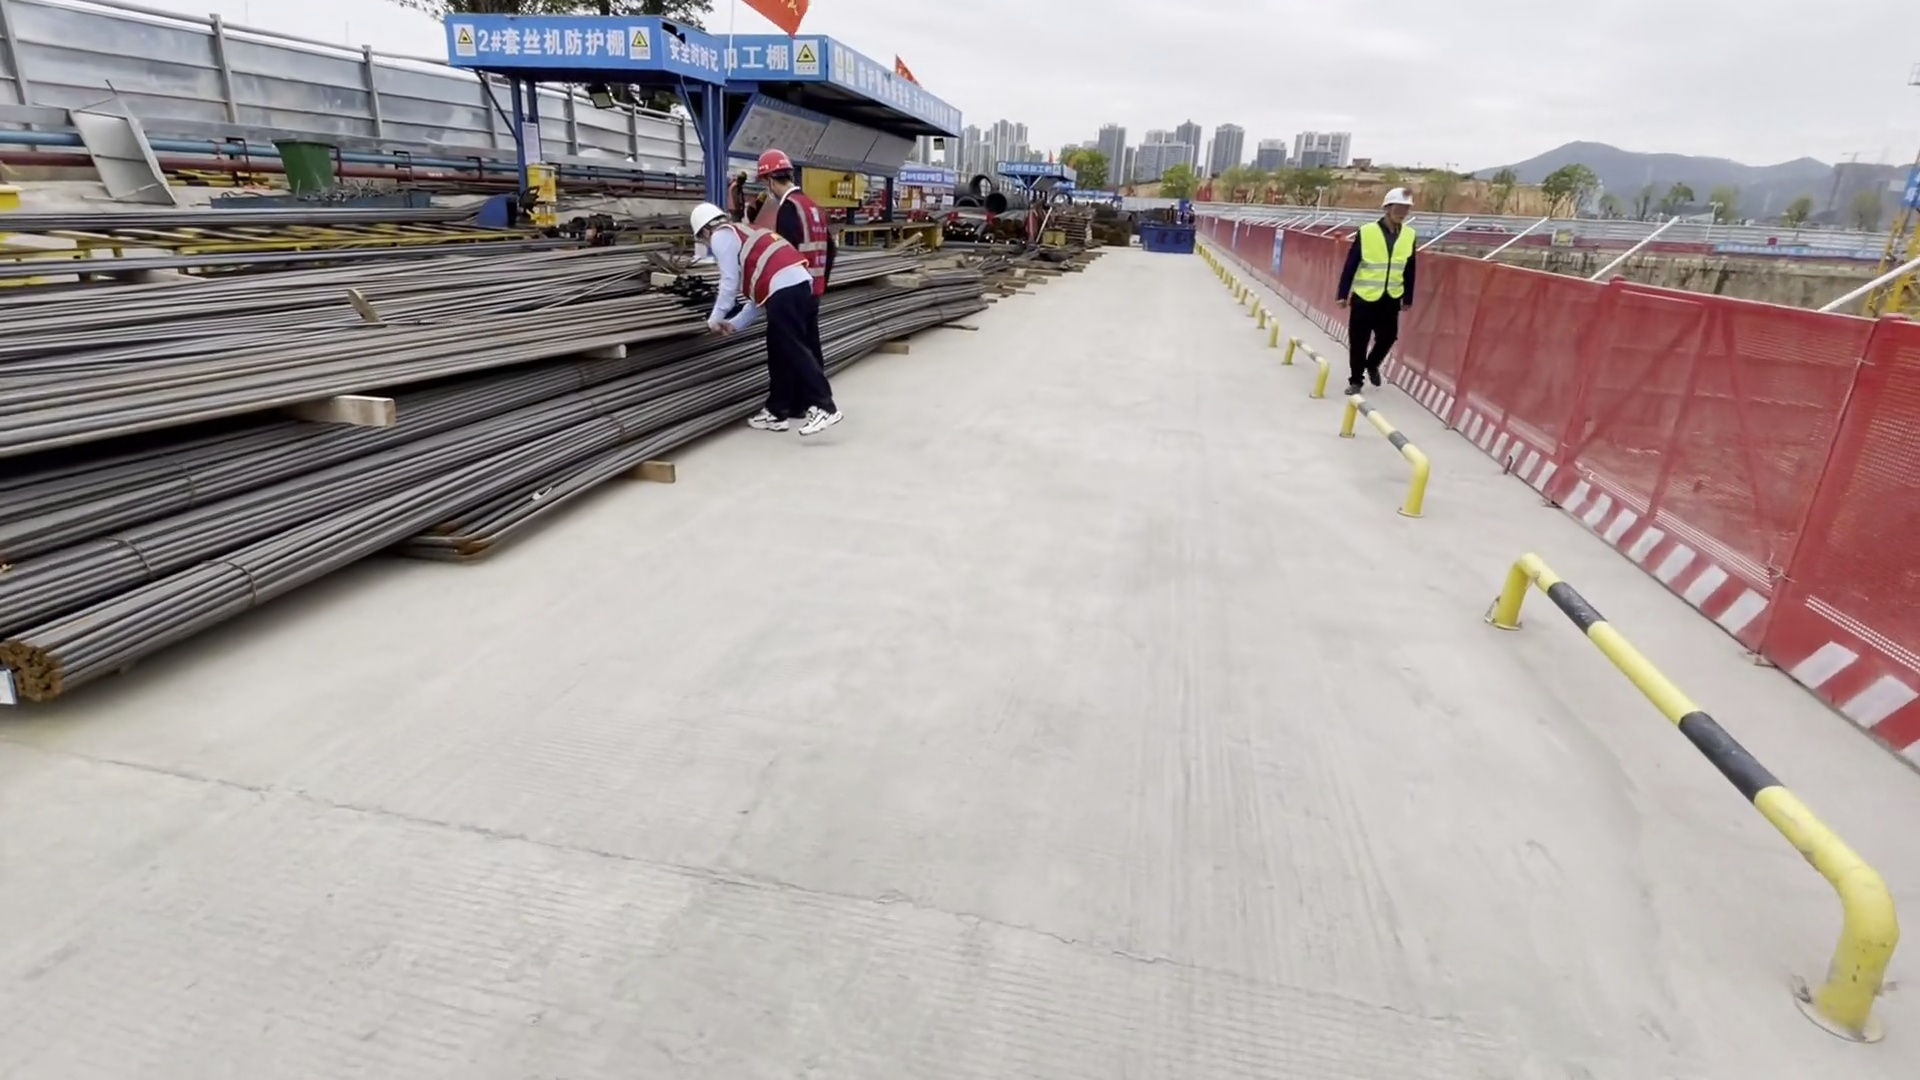ebox: (517, 164, 562, 221), (825, 161, 867, 197)
fence: (1405, 235, 1920, 746), (1212, 200, 1348, 340)
helmet: (684, 201, 725, 226), (755, 150, 790, 172), (1380, 187, 1414, 208)
hopper: (1144, 222, 1194, 256)
person: (695, 209, 819, 435), (758, 154, 838, 432), (1344, 192, 1408, 400)
rebar: (1, 226, 989, 713)
slogan: (646, 23, 962, 202)
vest: (728, 228, 804, 304), (1352, 219, 1411, 306), (791, 195, 833, 296)
